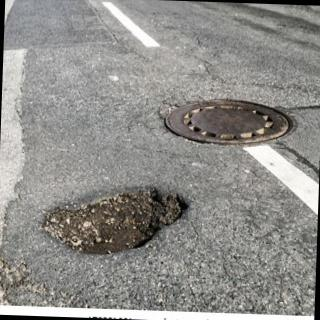pothole: (40, 188, 188, 256)
